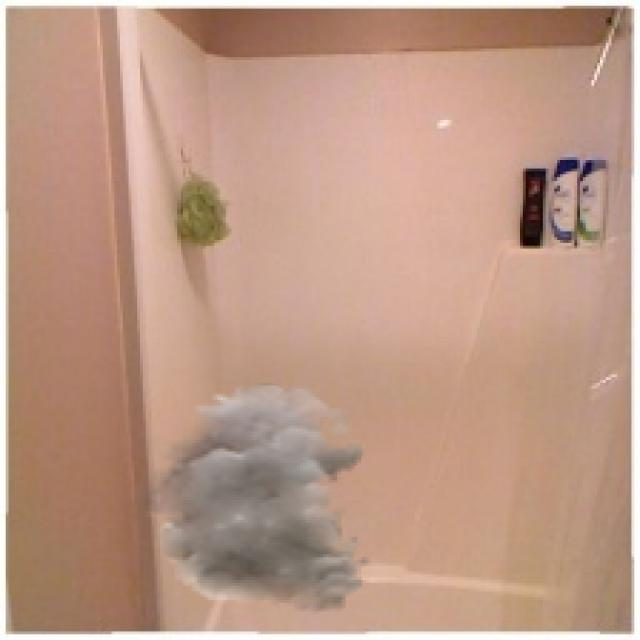Smoke: (128, 383, 372, 614)
